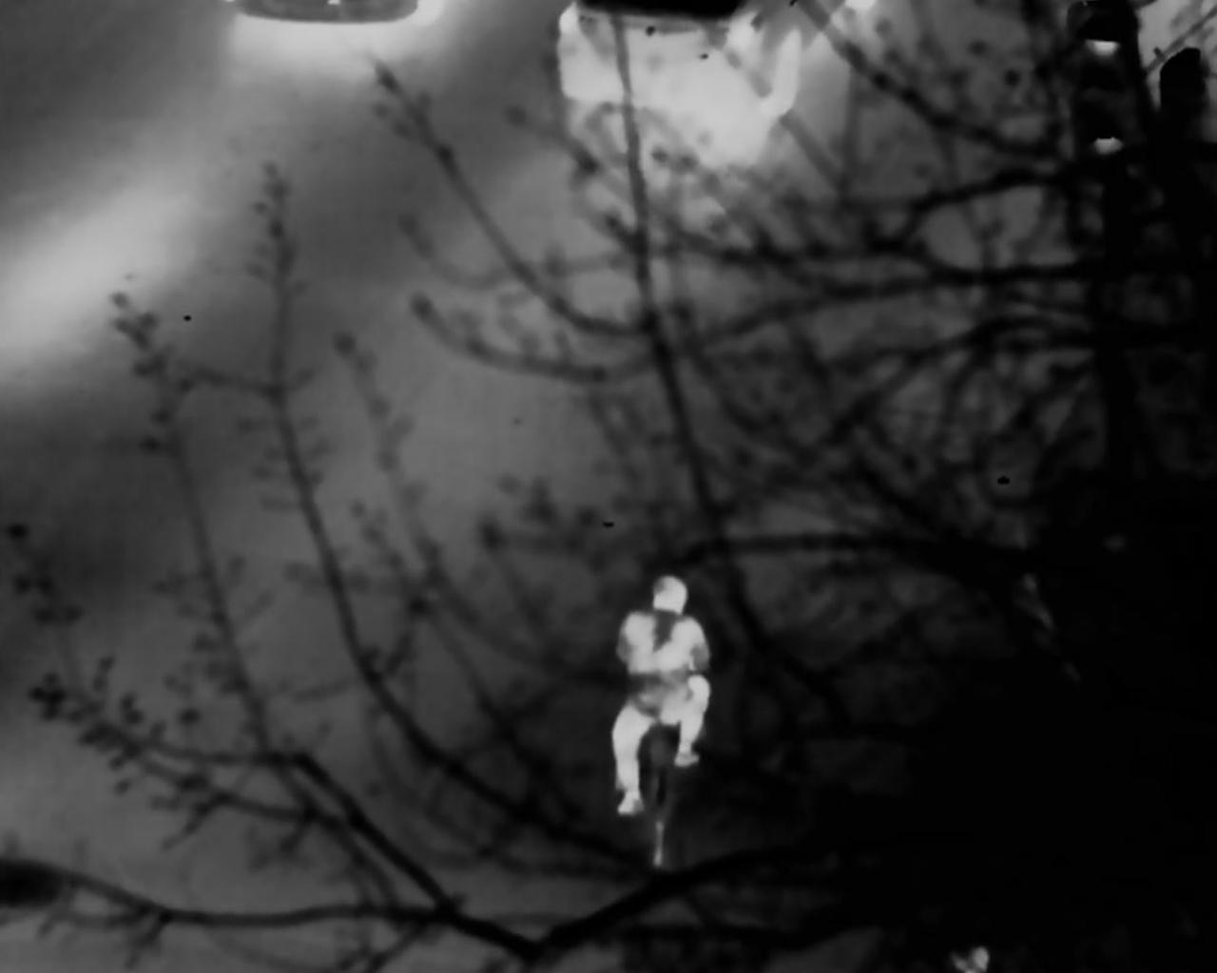person: (607, 574, 710, 823)
